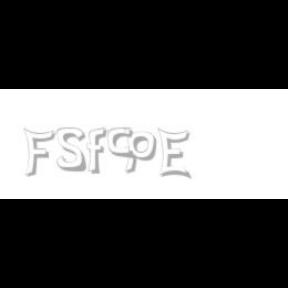E: (158, 128, 190, 180)
F: (23, 128, 55, 178)
S: (56, 128, 88, 172)
c: (108, 128, 136, 160)
f: (87, 128, 111, 174)
p: (124, 128, 161, 174)
